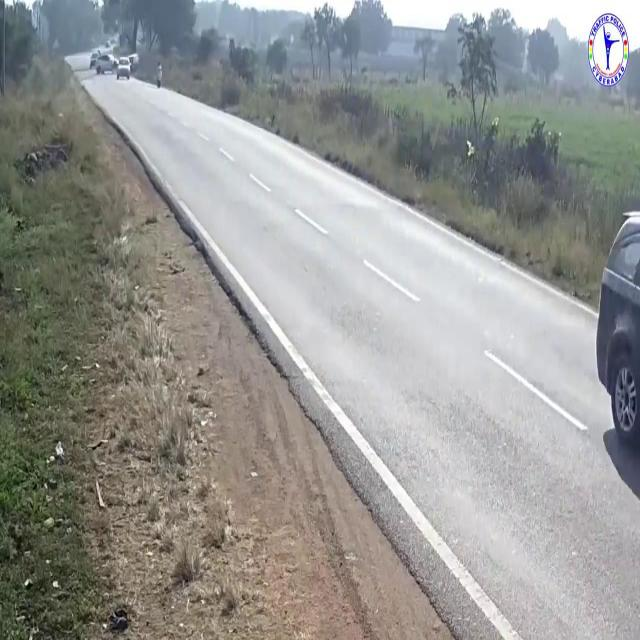accident: (92, 47, 134, 84)
